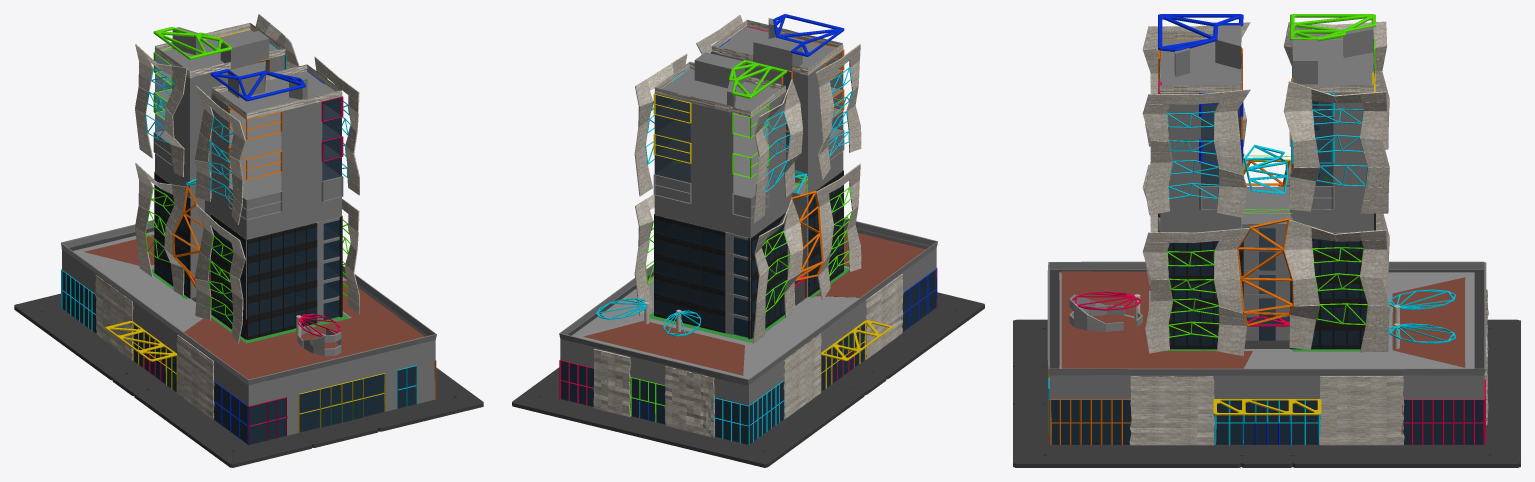
File: vivace_-_architectural_concept_1.glb
3 renders of one model, left to right at view 1: azimuth 30°, elevation 25°; view 2: azimuth 150°, elevation 25°; view 3: azimuth 270°, elevation 25°, orthographic. The views are drawn at different scales.
Visible parts, largest first — view 1: Plane.017, Plane.042, Plane.002, Plane.019, Plane.039, Plane.009, Plane.024, Plane.035, Plane.018, Plane.029, Plane.027, Plane.038 (+15 smaller); view 2: Plane.017, Plane.042, Plane.002, Plane.018, Plane.019, Plane.039, Plane.009, Plane.024, Plane.035, Plane.029, Plane.038, Plane.027 (+16 smaller); view 3: Plane.017, Plane.042, Plane.039, Plane.009, Plane.018, Plane.019, Plane.002, Plane.035, Plane.024, Plane, Plane.006, Plane.027 (+16 smaller).
Boxes of the visible parts, left/top/right/bottom form: Plane.017: left=61, top=220, right=436, bottom=435; Plane.042: left=14, top=293, right=483, bottom=467; Plane.002: left=154, top=172, right=342, bottom=339; Plane.019: left=61, top=269, right=436, bottom=445; Plane.039: left=135, top=14, right=359, bottom=224; Plane.009: left=135, top=163, right=359, bottom=343; Plane.024: left=153, top=130, right=343, bottom=239; Plane.035: left=162, top=27, right=334, bottom=112; Plane.018: left=95, top=275, right=214, bottom=419; Plane.029: left=153, top=29, right=343, bottom=140; Plane.027: left=153, top=88, right=343, bottom=180; Plane.038: left=154, top=23, right=342, bottom=119; Plane.017: left=559, top=218, right=937, bottom=410; Plane.042: left=512, top=292, right=984, bottom=467; Plane.002: left=654, top=170, right=843, bottom=339; Plane.018: left=593, top=274, right=903, bottom=437; Plane.019: left=559, top=268, right=937, bottom=445; Plane.039: left=634, top=15, right=861, bottom=223; Plane.009: left=634, top=164, right=861, bottom=343; Plane.024: left=653, top=127, right=844, bottom=237; Plane.035: left=662, top=18, right=834, bottom=110; Plane.029: left=653, top=26, right=844, bottom=137; Plane.038: left=654, top=19, right=843, bottom=117; Plane.027: left=653, top=87, right=844, bottom=178; Plane.017: left=1047, top=261, right=1486, bottom=444; Plane.042: left=1013, top=319, right=1520, bottom=467; Plane.039: left=1142, top=21, right=1389, bottom=217; Plane.009: left=1142, top=160, right=1389, bottom=356; Plane.018: left=1129, top=289, right=1488, bottom=445; Plane.019: left=1048, top=370, right=1485, bottom=445; Plane.002: left=1158, top=213, right=1375, bottom=349; Plane.035: left=1160, top=25, right=1373, bottom=85; Plane.024: left=1160, top=163, right=1373, bottom=232; Plane: left=1158, top=186, right=1292, bottom=340; Plane.006: left=1241, top=177, right=1345, bottom=315; Plane.027: left=1169, top=116, right=1366, bottom=163.
Size of the model in its own units: 39.91 by 45.74 by 59.42.
Materials: 16 (1 with a texture image).
